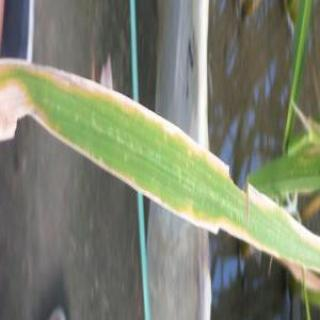Hawar-Daun: (0, 59, 230, 179), (144, 190, 282, 257), (281, 208, 319, 251), (22, 91, 53, 132), (285, 258, 319, 288), (250, 187, 280, 211)
